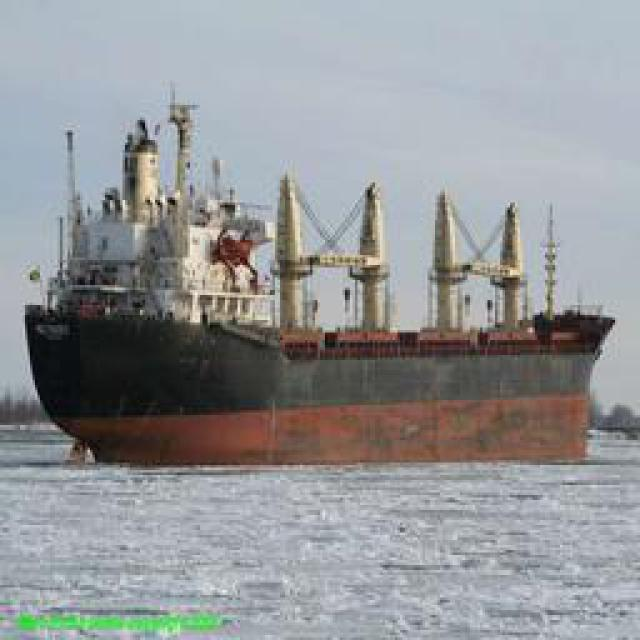Ship: (14, 117, 615, 465)
